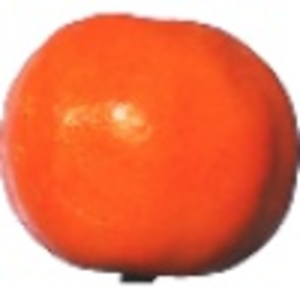tangerina: (1, 1, 300, 282)
